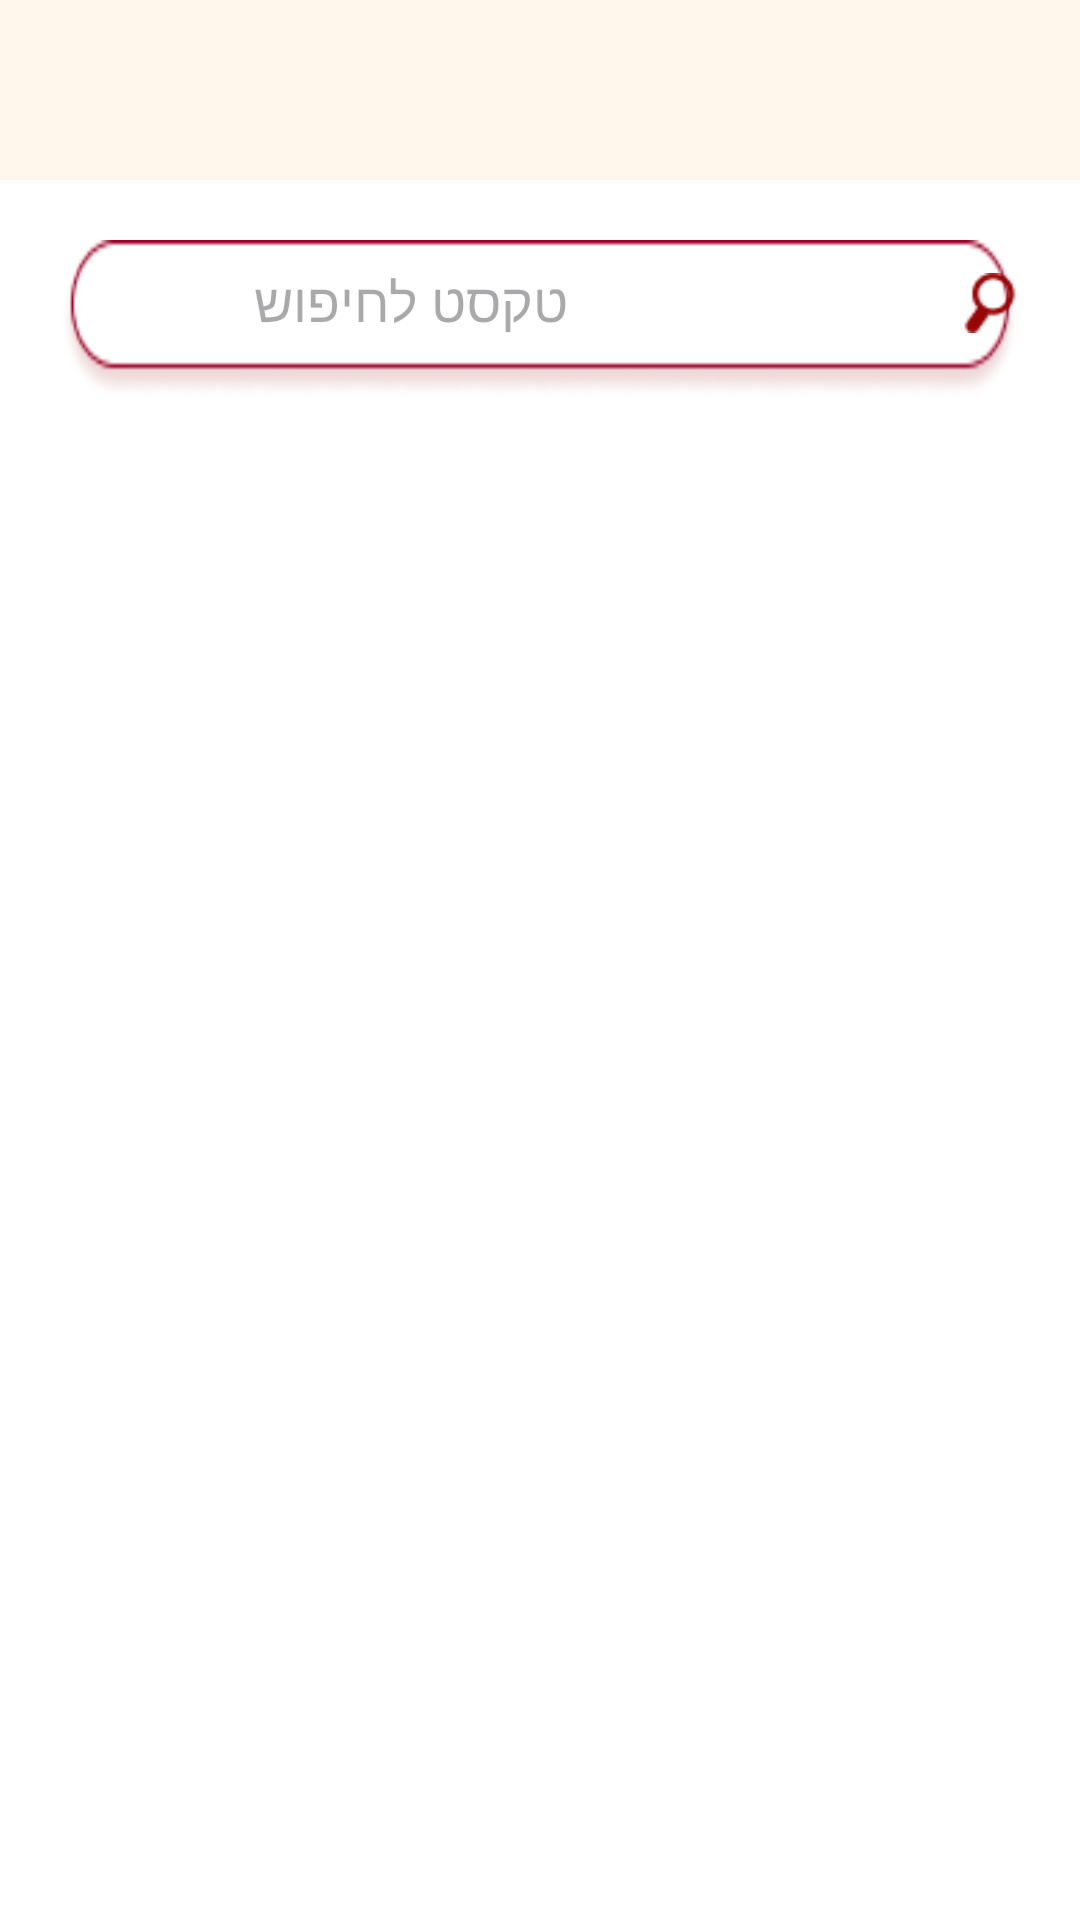

Icons on this 1080×1920 Android screen, each with the point to tap as (x=x, y=y):
search: (x=990, y=303)
